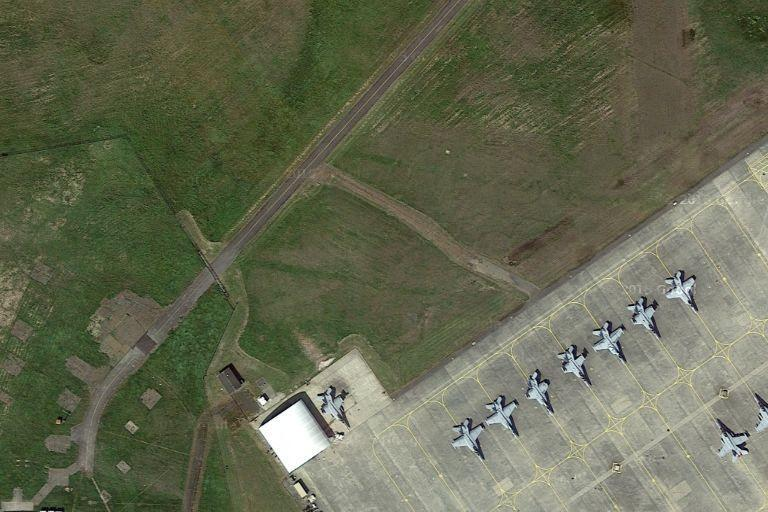F/A-18: (588, 318, 632, 366), (712, 416, 753, 465), (663, 266, 701, 318), (314, 385, 355, 433), (553, 344, 596, 389), (623, 294, 663, 340), (516, 368, 555, 415), (482, 395, 523, 439), (449, 415, 487, 459)
